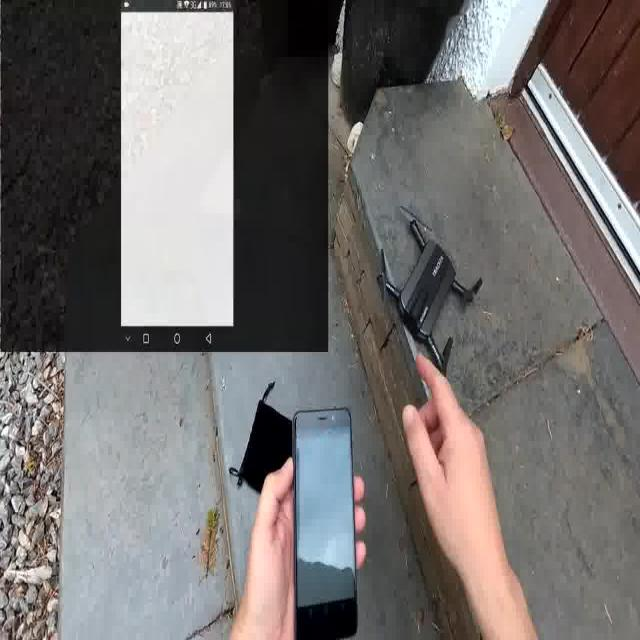drones: (368, 188, 494, 390)
